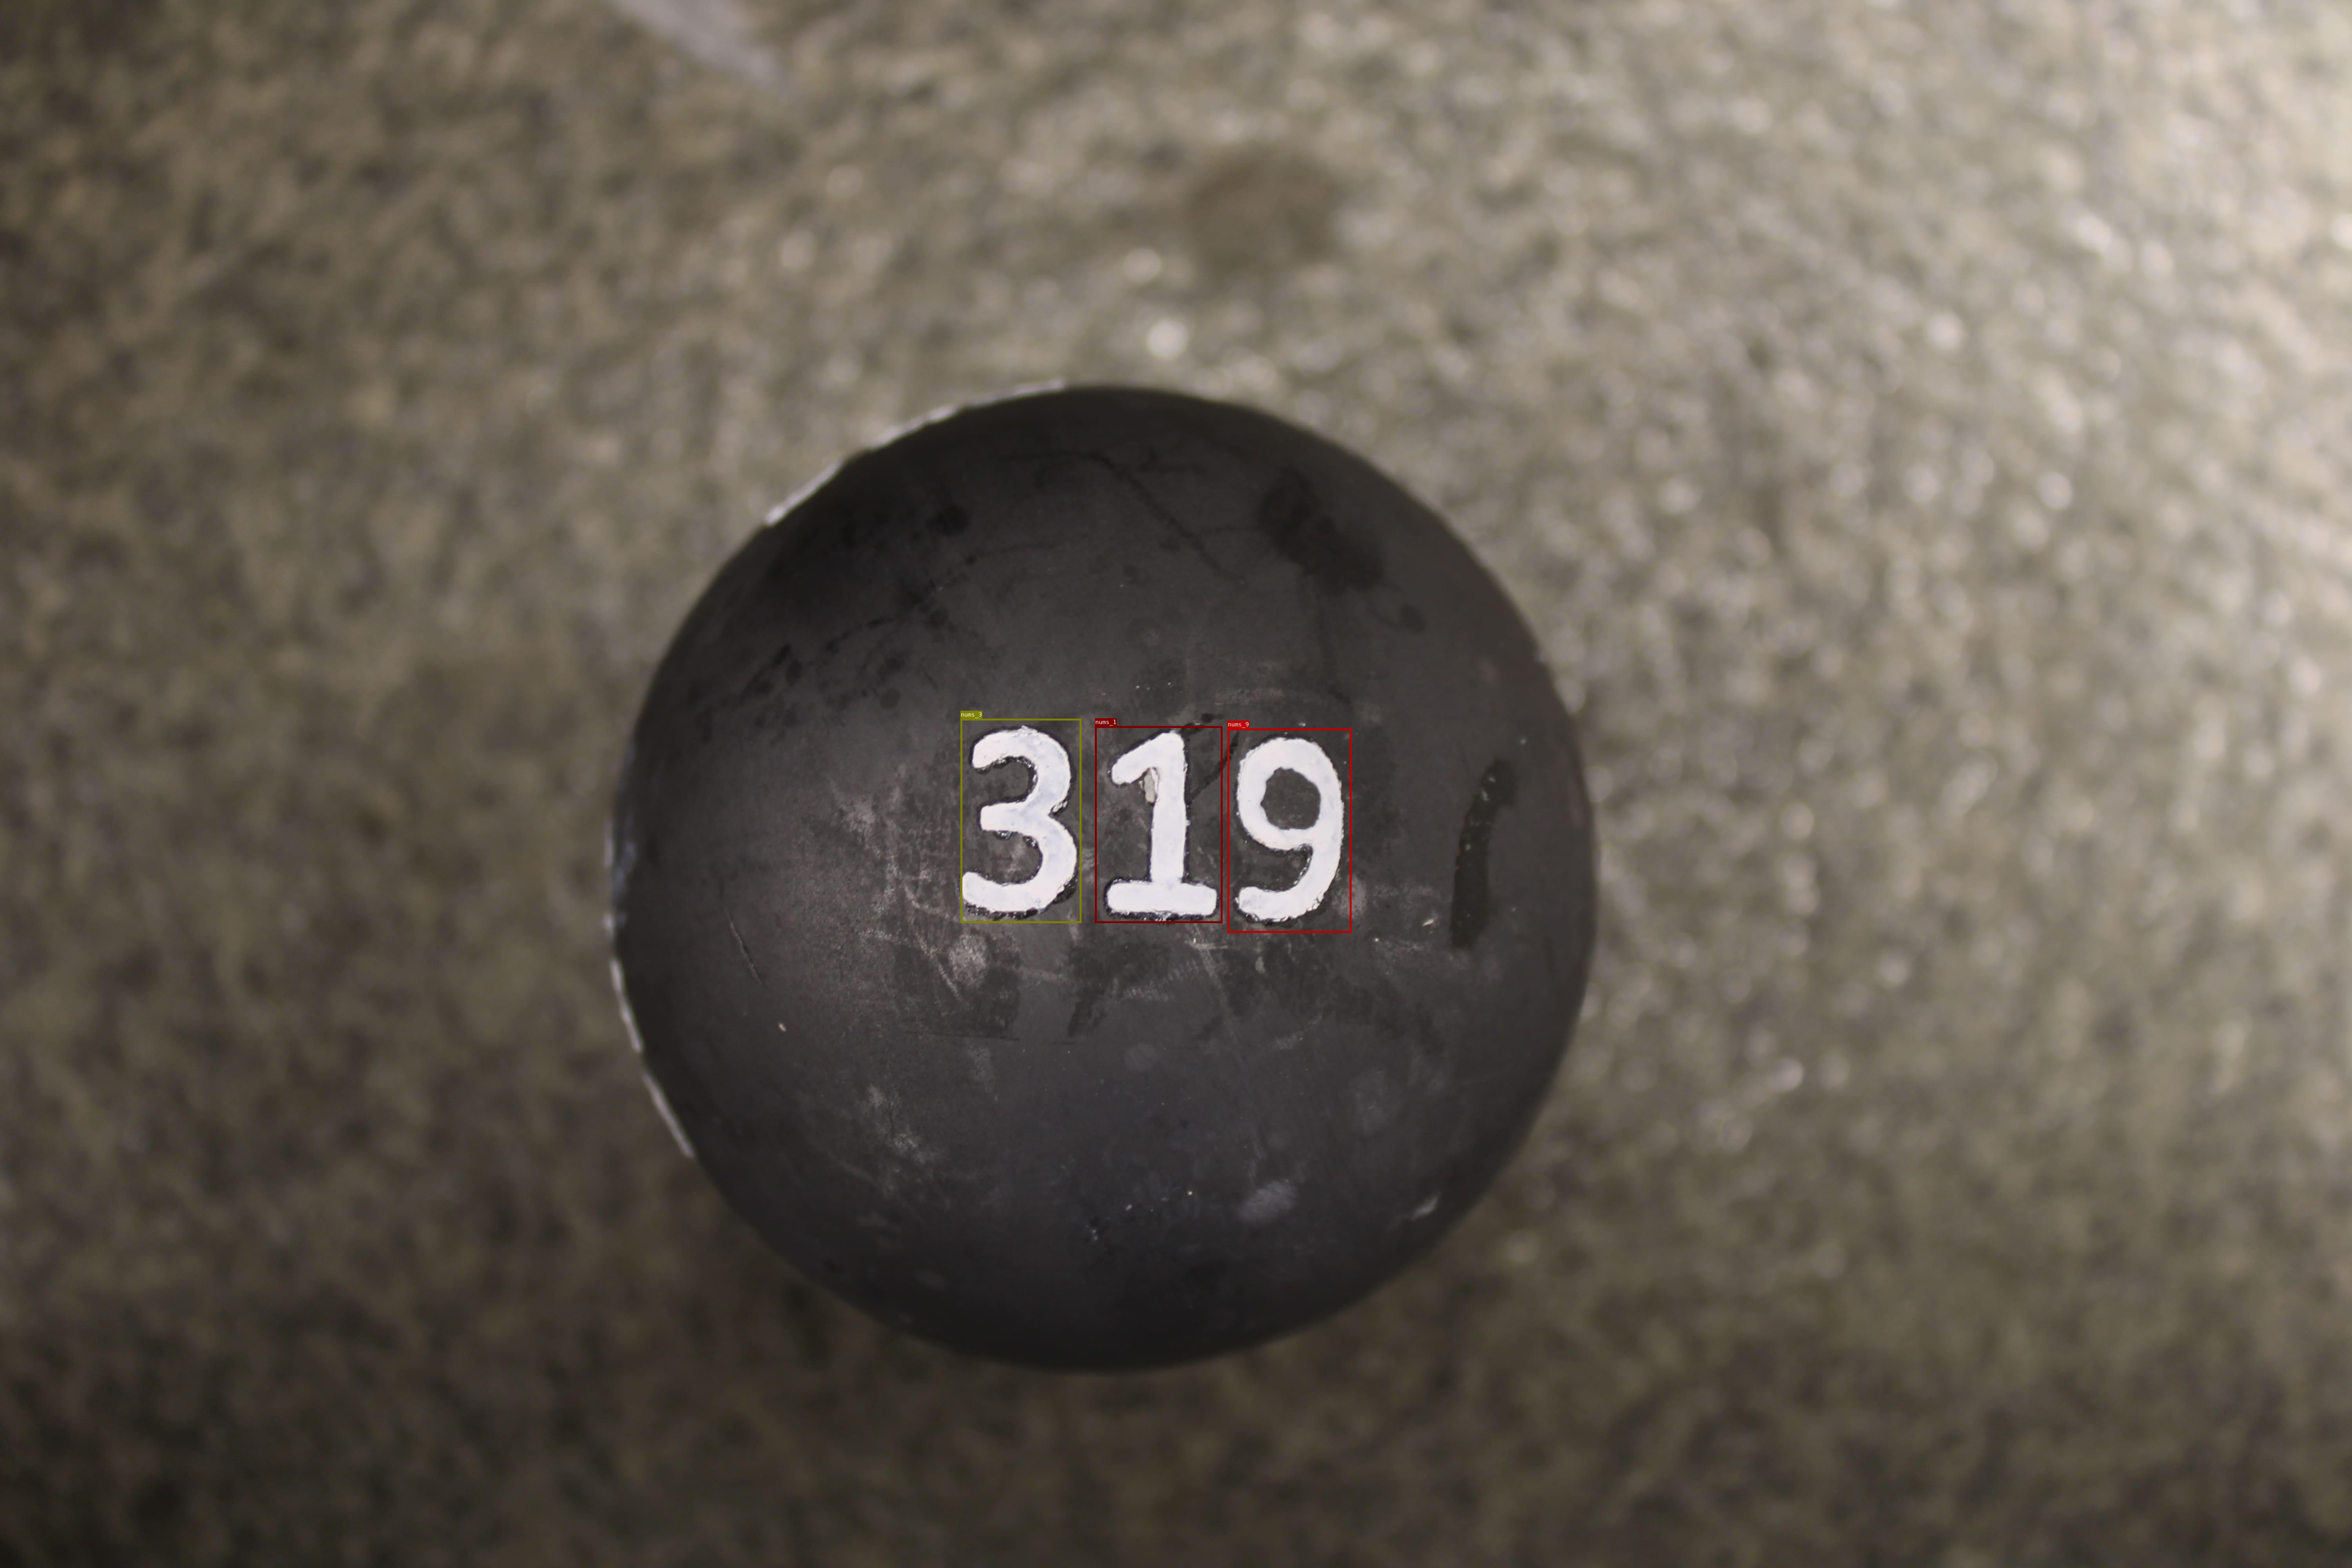nums_1: (1096, 726, 1221, 922)
nums_3: (961, 719, 1081, 922)
nums_9: (1227, 728, 1351, 933)
